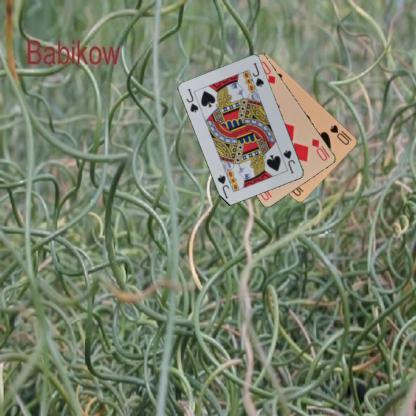10d: (309, 136, 332, 162)
10s: (328, 122, 353, 146)
Js: (184, 86, 200, 114), (281, 147, 296, 175)
